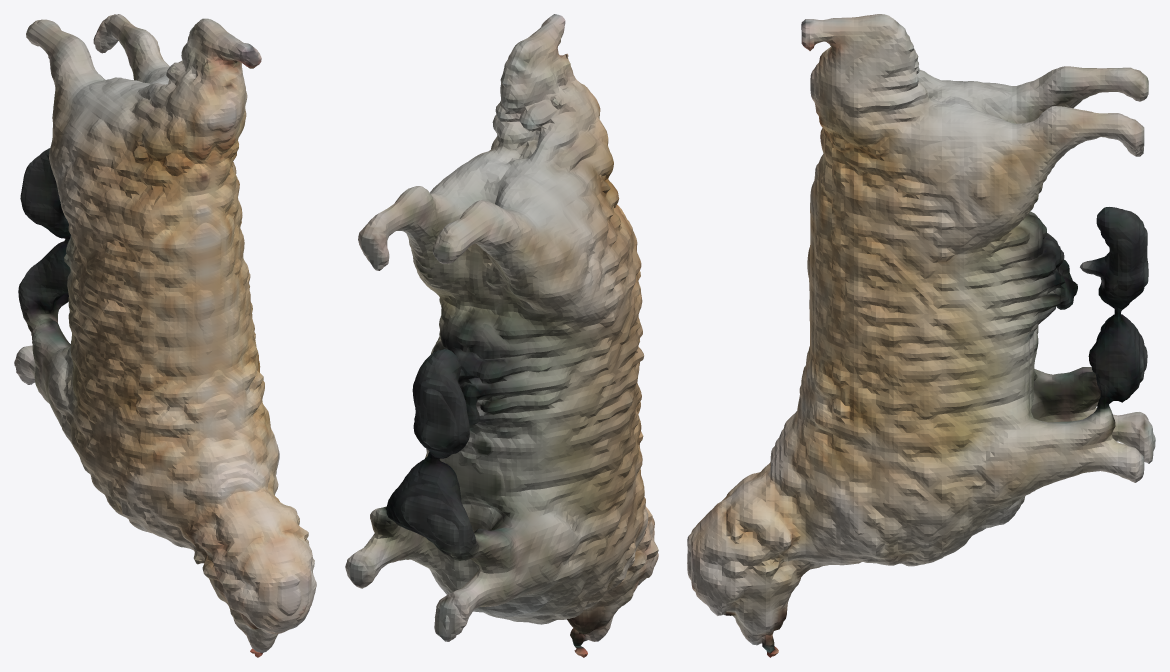
The picture shows the model from 3 angles, left to right: view 1: azimuth 30°, elevation 25°; view 2: azimuth 150°, elevation 25°; view 3: azimuth 270°, elevation 25°; orthographic projection. The views are drawn at different scales.
Visible parts, largest first — view 1: world; view 2: world; view 3: world.
Boxes of the visible parts, <box> form: world: <box>14,14,316,657</box>; world: <box>345,14,658,657</box>; world: <box>687,14,1155,657</box>.
Bounding box in the file's own units: 0.3352 × 1.1 × 0.7267.
